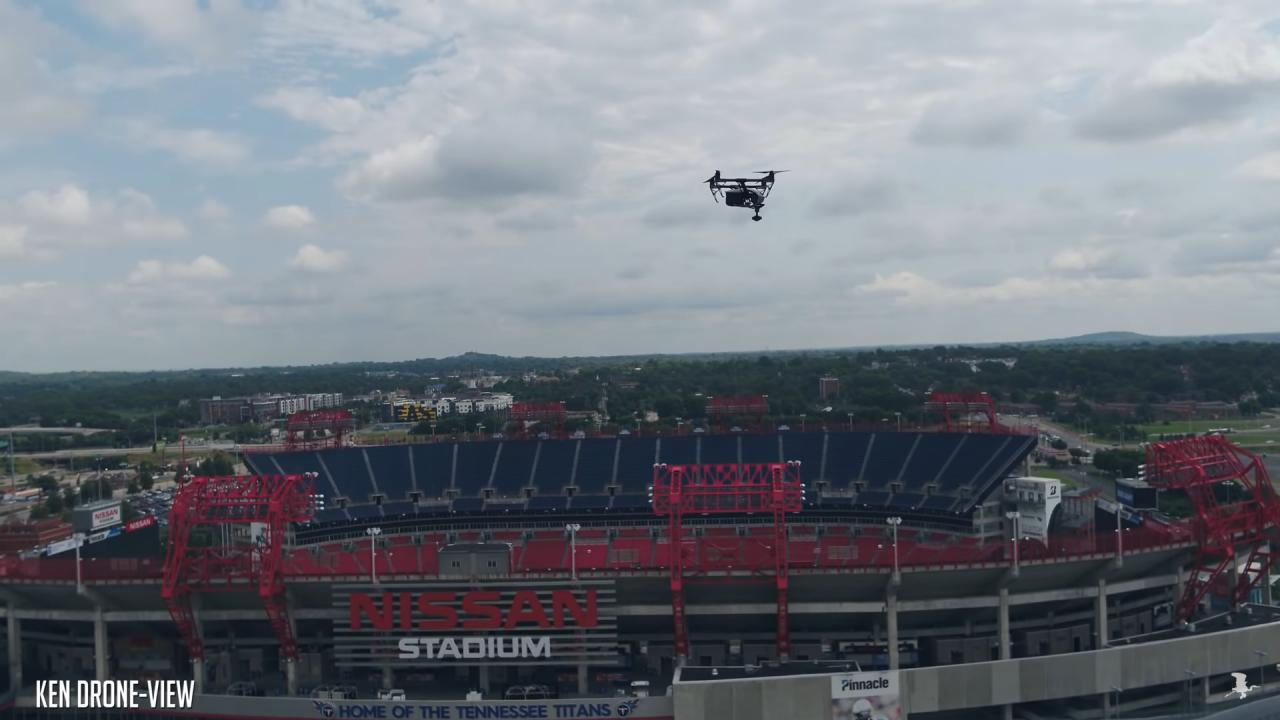Drone: (694, 161, 792, 230)
